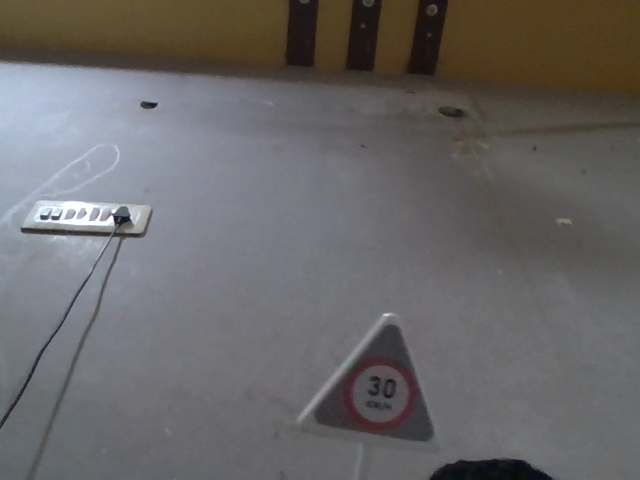speedlimit: (298, 288, 434, 453)
